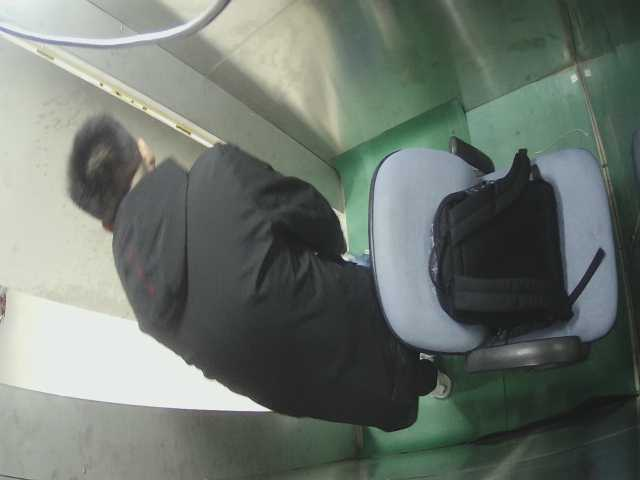bag: (437, 163, 590, 326)
chair: (360, 127, 626, 368)
person: (38, 104, 410, 402)
